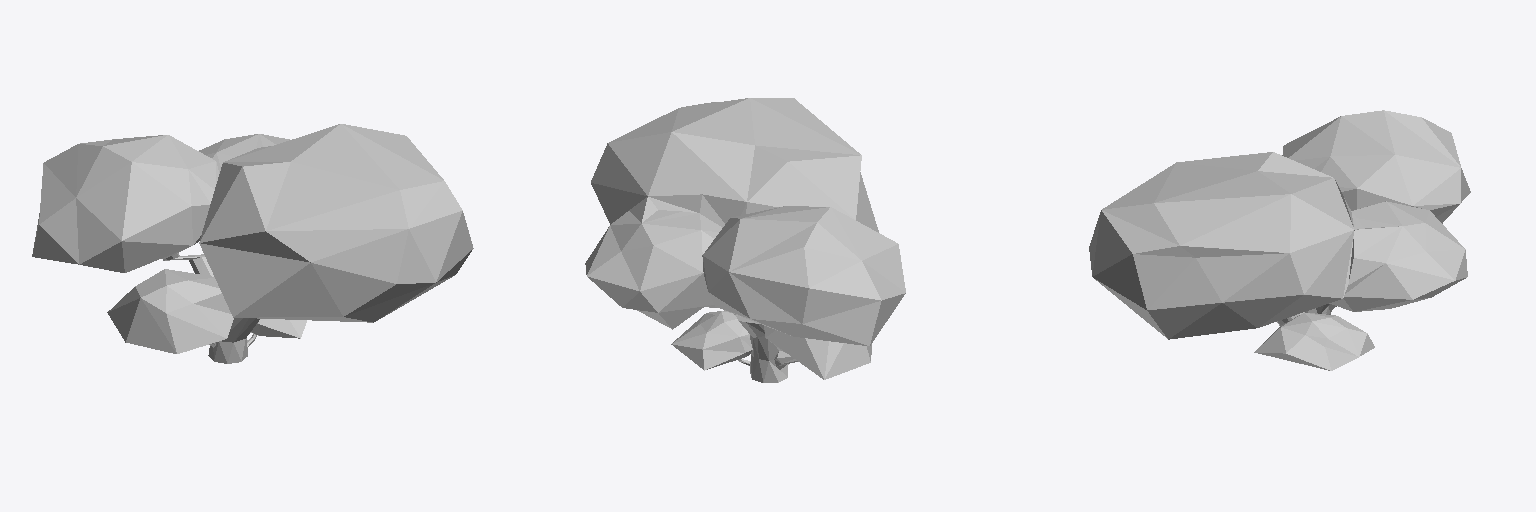
Rendered from bush02.obj.
3 renders of one model, left to right at view 1: azimuth 30°, elevation 25°; view 2: azimuth 150°, elevation 25°; view 3: azimuth 270°, elevation 25°, orthographic.
Visible parts, largest first — view 1: Cylinder; view 2: Cylinder; view 3: Cylinder.
Part boxes in pixels (left/top/right/bottom): Cylinder: left=32, top=124, right=473, bottom=363; Cylinder: left=585, top=98, right=905, bottom=382; Cylinder: left=1089, top=110, right=1470, bottom=370.
Bounding box in the file's own units: 1.24 × 0.76 × 1.24.